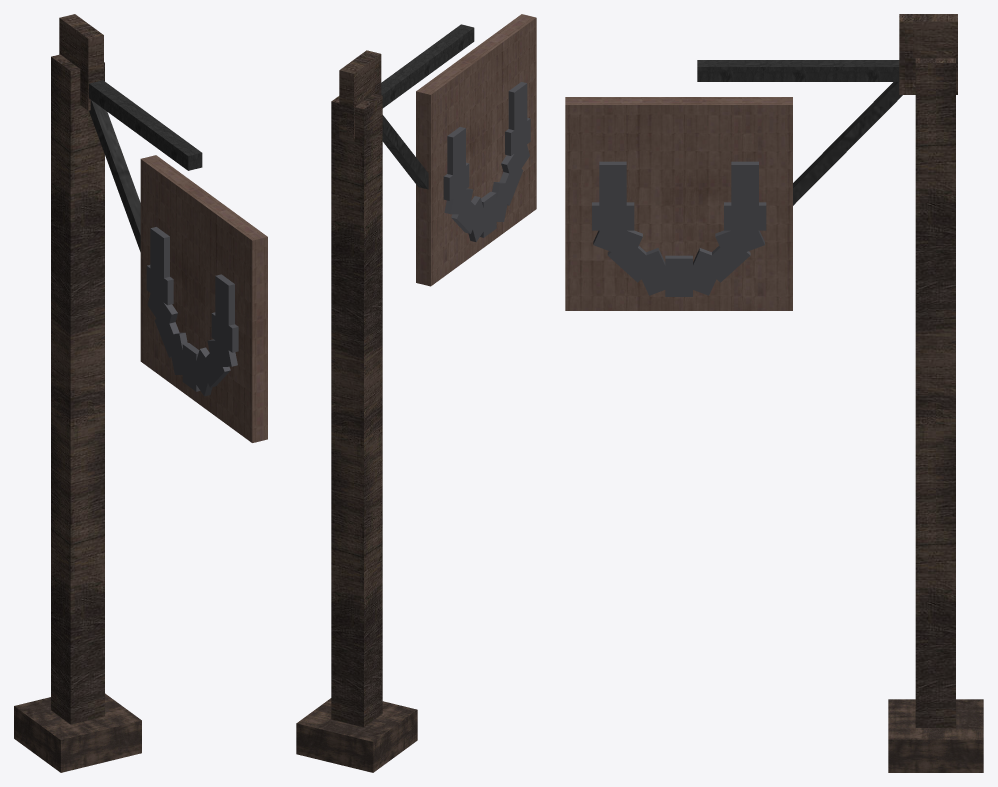
The model's file is prop_tradesign_smithy.glb.
3 renders of one model, left to right at view 1: azimuth 30°, elevation 25°; view 2: azimuth 150°, elevation 25°; view 3: azimuth 270°, elevation 25°, orthographic. The views are drawn at different scales.
Visible parts, largest first — view 1: prop_tradesign_smithy; view 2: prop_tradesign_smithy; view 3: prop_tradesign_smithy.
Boxes of the visible parts, left/top/right/bottom form: prop_tradesign_smithy: left=14, top=14, right=267, bottom=772; prop_tradesign_smithy: left=296, top=14, right=536, bottom=772; prop_tradesign_smithy: left=565, top=14, right=983, bottom=772.
Bounding box in the file's own units: 0.26 × 2.21 × 1.14.
Materials: 4 (3 with a texture image).
